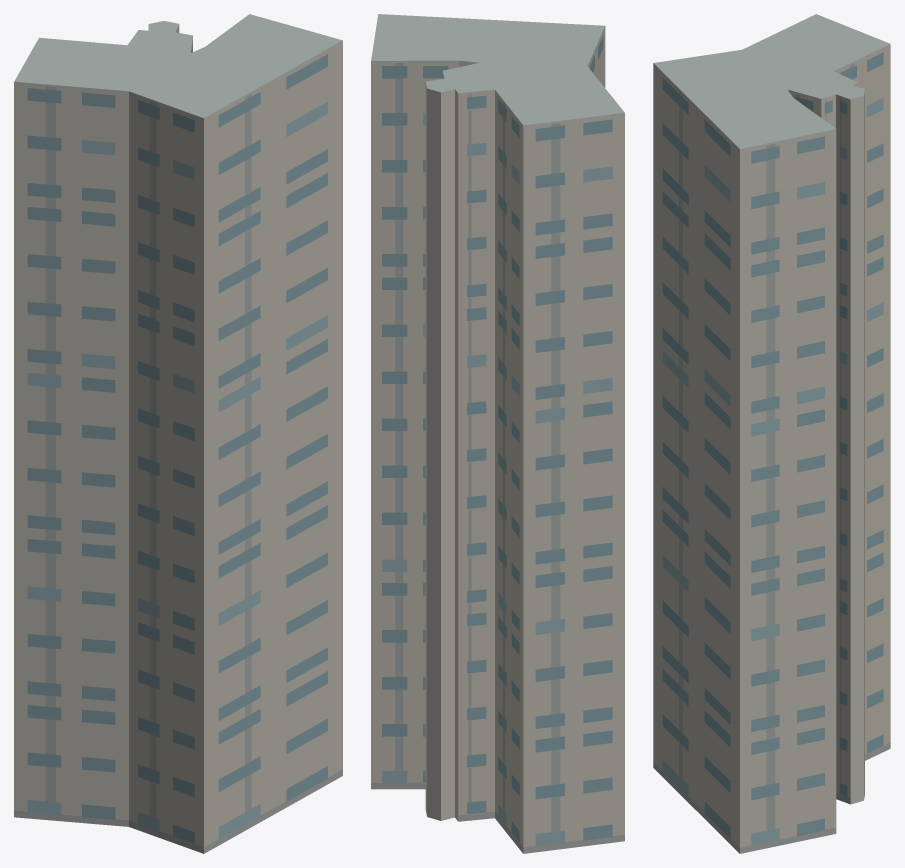
Rendered from residential-3b4d51fc-ab0c-4415-8b15-76f25e6ec706.glb.
The picture shows the model from 3 angles, left to right: view 1: azimuth 30°, elevation 25°; view 2: azimuth 150°, elevation 25°; view 3: azimuth 270°, elevation 25°; orthographic projection. The views are drawn at different scales.
Parts seen in each view (by area): view 1: residential-3b4d51fc-ab0c-4415-8b15-76f25e6ec706.tmp; view 2: residential-3b4d51fc-ab0c-4415-8b15-76f25e6ec706.tmp; view 3: residential-3b4d51fc-ab0c-4415-8b15-76f25e6ec706.tmp.
Part boxes in pixels (<box>): residential-3b4d51fc-ab0c-4415-8b15-76f25e6ec706.tmp: <box>14,14,342,853</box>; residential-3b4d51fc-ab0c-4415-8b15-76f25e6ec706.tmp: <box>371,14,624,853</box>; residential-3b4d51fc-ab0c-4415-8b15-76f25e6ec706.tmp: <box>653,14,890,853</box>.
Bounding box in the file's own units: 35.76 × 87 × 26.55.
